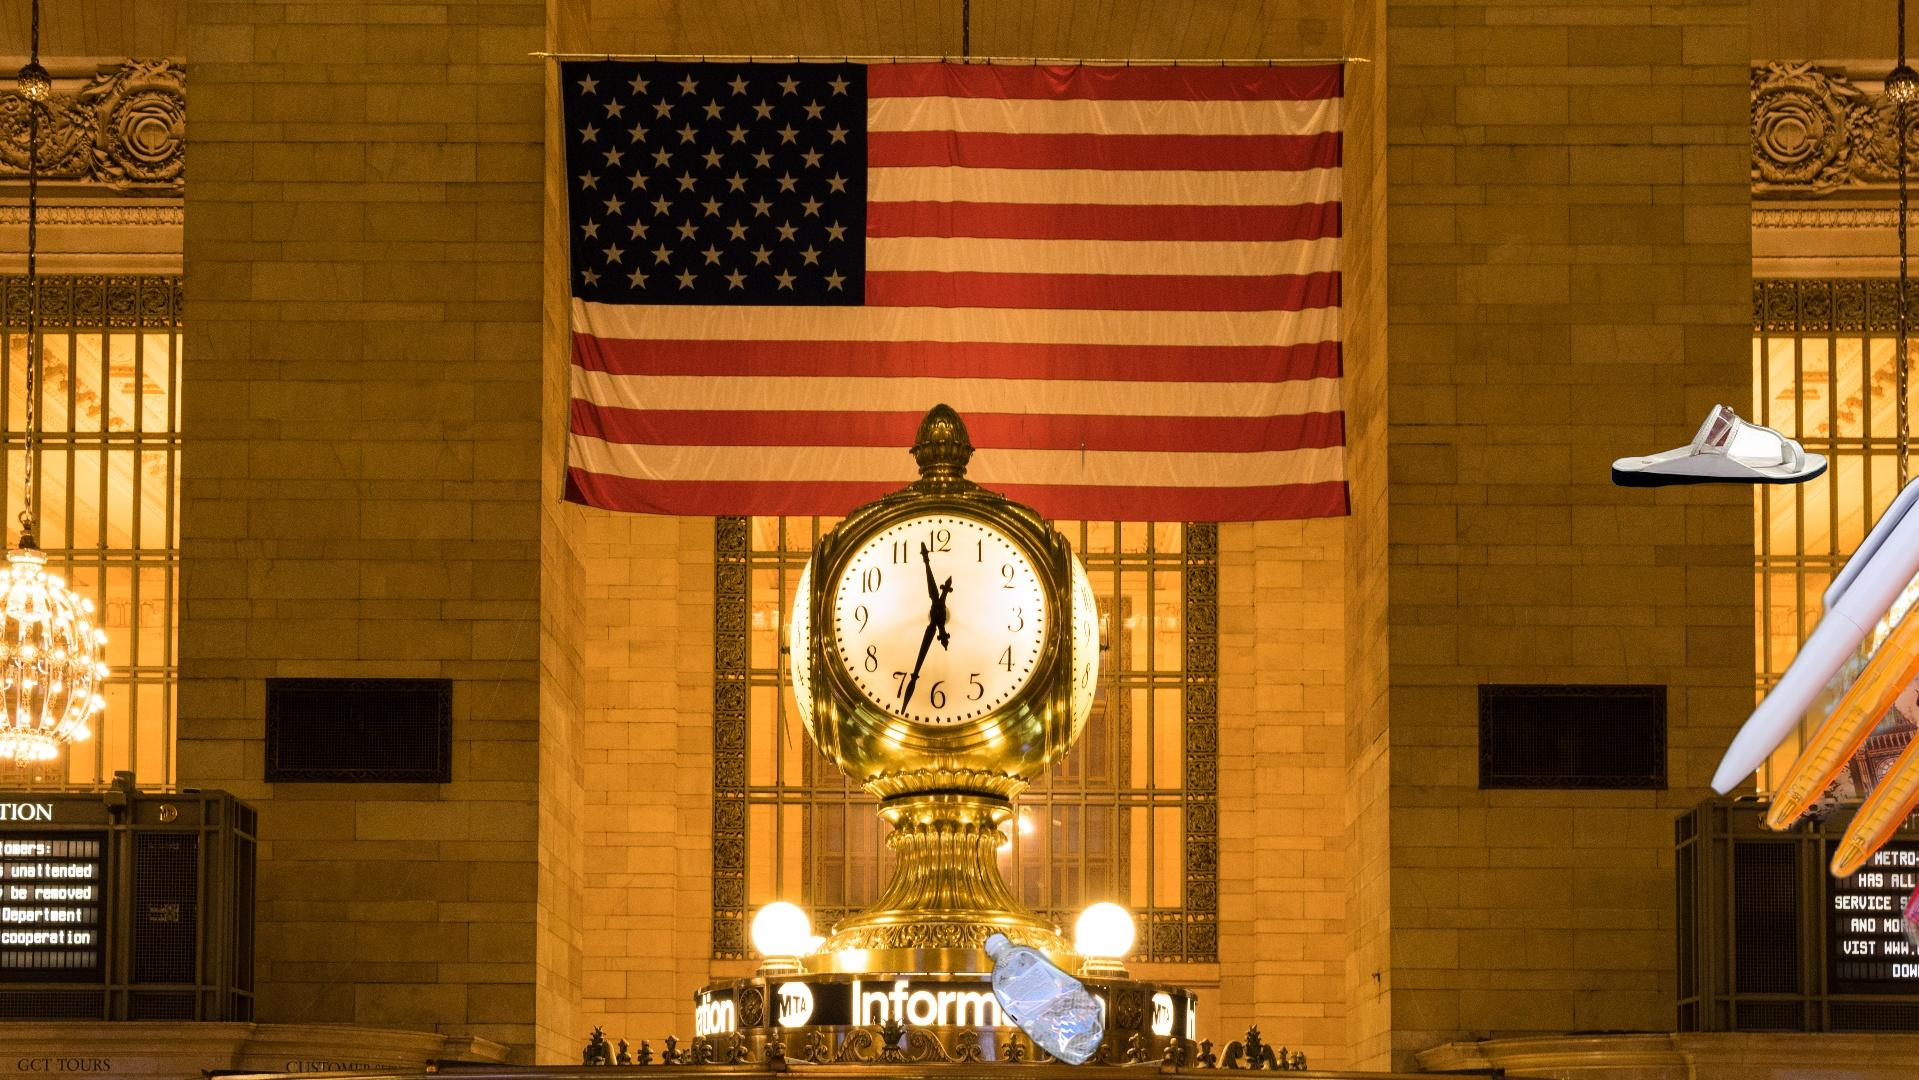penholder: (1703, 459, 1919, 1048)
plastic-bottles: (979, 927, 1108, 1073)
shoes: (1608, 401, 1829, 491)
trashbox-cardboard: (1082, 216, 1723, 576)
